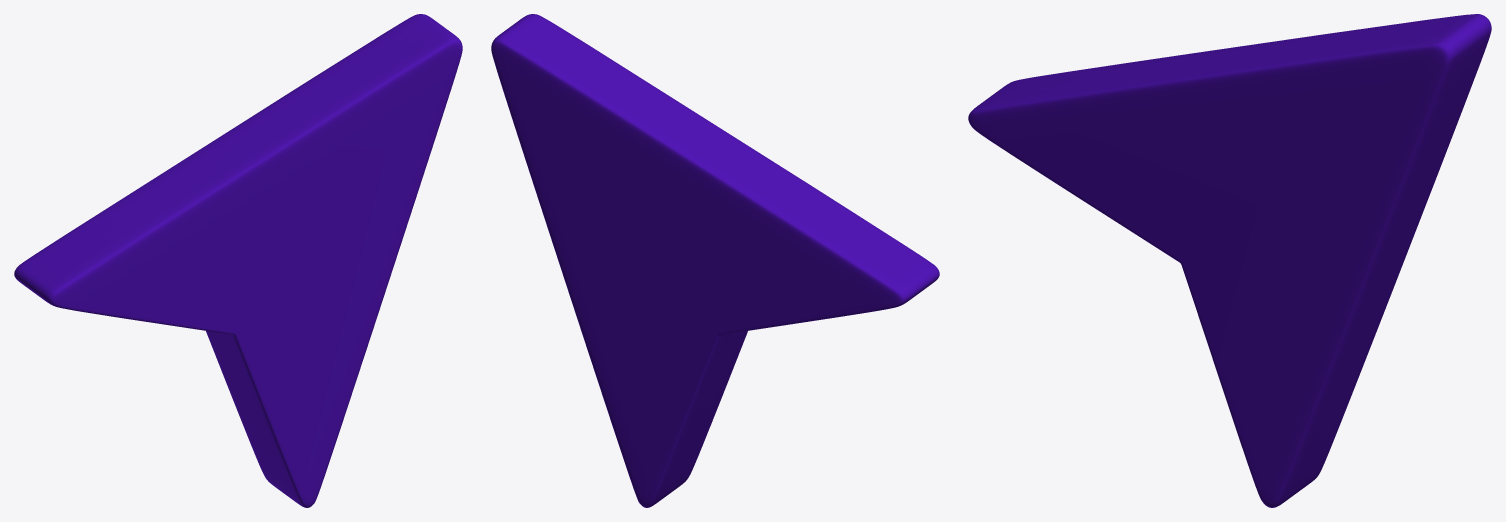
Rendered from location.glb.
The picture shows the model from 3 angles, left to right: view 1: azimuth 30°, elevation 25°; view 2: azimuth 150°, elevation 25°; view 3: azimuth 330°, elevation 25°; orthographic projection. The views are drawn at different scales.
Visible parts, largest first — view 1: Circle.020; view 2: Circle.020; view 3: Circle.020.
Boxes of the visible parts, x1,y1,x2,y2 form: Circle.020: (14,14,462,507); Circle.020: (491,14,939,507); Circle.020: (968,14,1491,507).
Size of the model in its own units: 1.79 by 1.79 by 0.2916.
